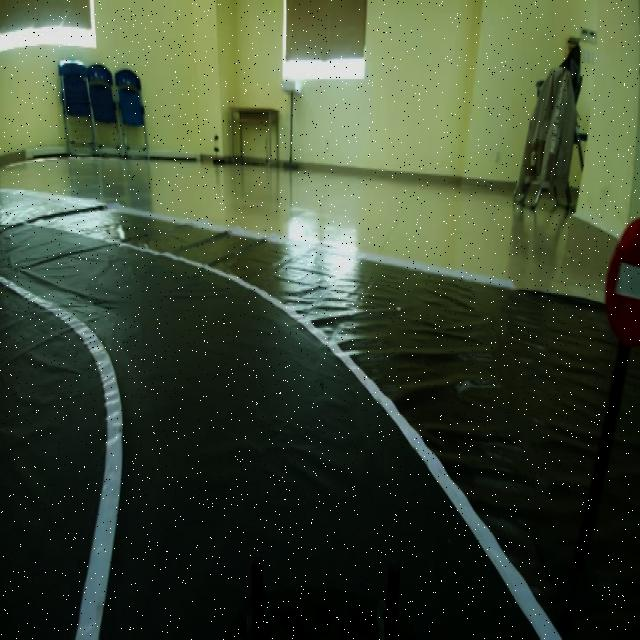no_entry: (603, 199, 640, 353)
